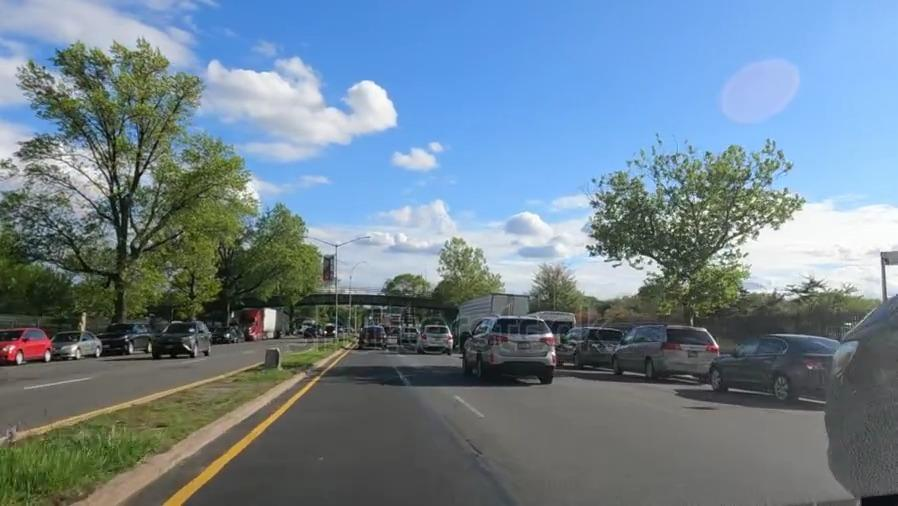car: (833, 285, 898, 480), (711, 329, 841, 407), (614, 316, 718, 380), (478, 312, 555, 384), (566, 317, 621, 367), (157, 317, 209, 365), (0, 323, 53, 368), (105, 323, 153, 357), (55, 330, 105, 358), (422, 321, 457, 354), (358, 323, 390, 350), (211, 327, 234, 344), (399, 325, 420, 342)
wheel: (857, 411, 898, 499)
